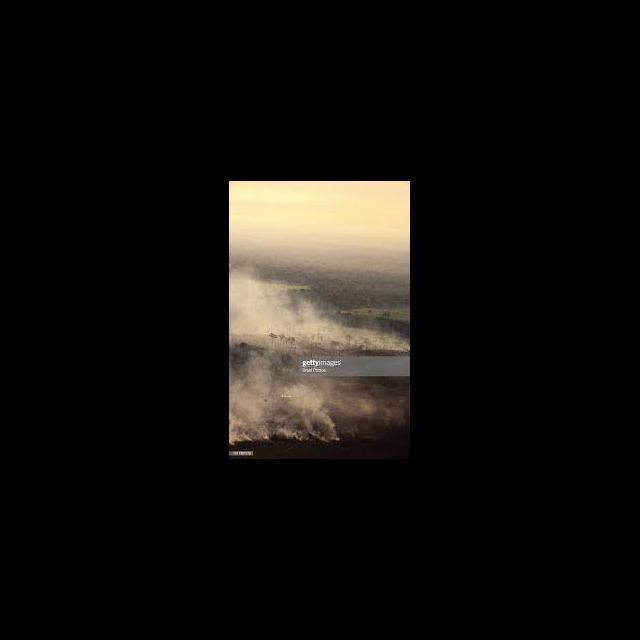Smoke: (230, 268, 384, 346), (230, 377, 365, 442)
